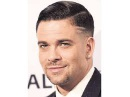male: (32, 3, 98, 88)
